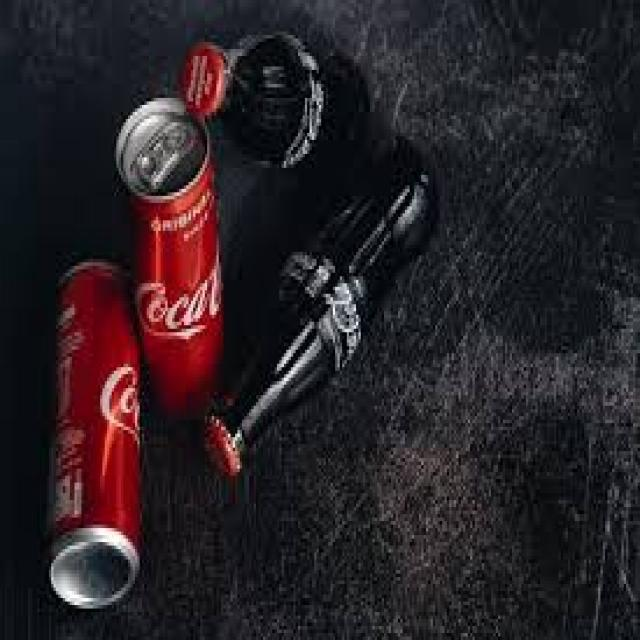coca-cola: (118, 105, 228, 435), (52, 254, 144, 612)
